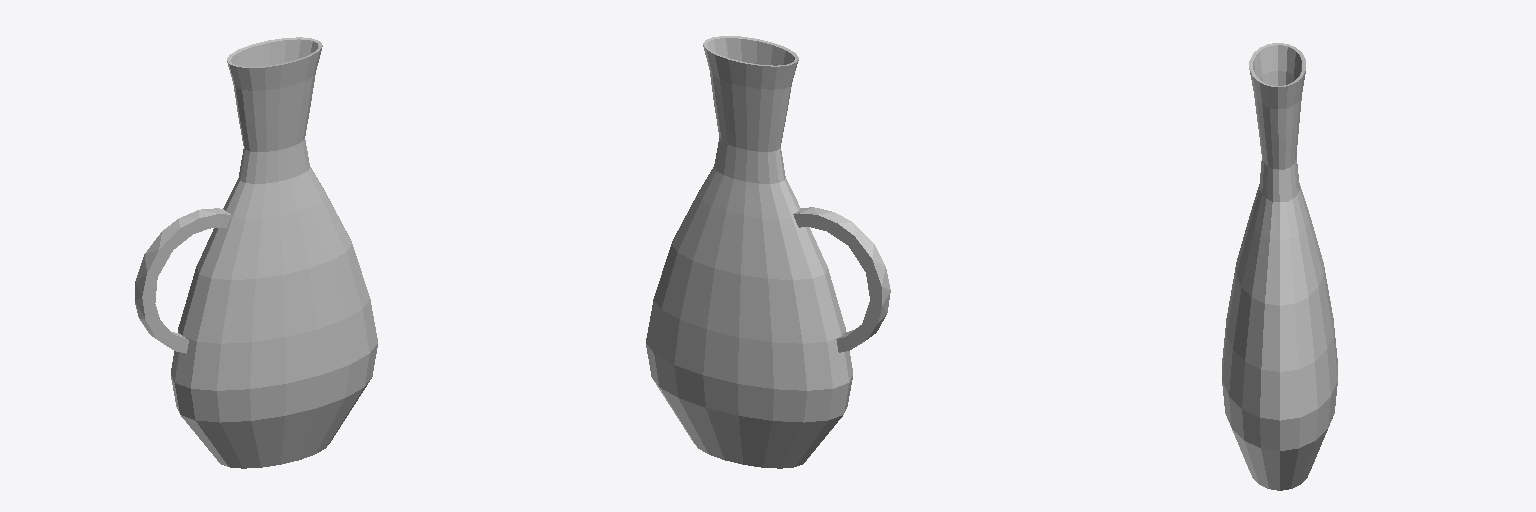
Rendered from Jug.obj.
3 views of the same model, side by side, from view 1: azimuth 30°, elevation 25°; view 2: azimuth 150°, elevation 25°; view 3: azimuth 270°, elevation 25° (orthographic).
Visible parts, largest first — view 1: Vaso_Cube, Manico_Cube.002; view 2: Vaso_Cube, Manico_Cube.002; view 3: Vaso_Cube.
Part boxes in pixels (bbox=[...]): Vaso_Cube: bbox=[171, 39, 377, 468]; Manico_Cube.002: bbox=[135, 208, 231, 353]; Vaso_Cube: bbox=[646, 38, 852, 468]; Manico_Cube.002: bbox=[793, 207, 890, 352]; Vaso_Cube: bbox=[1222, 45, 1337, 490].
Size of the model in its own units: 1.41 by 2.27 by 0.598.